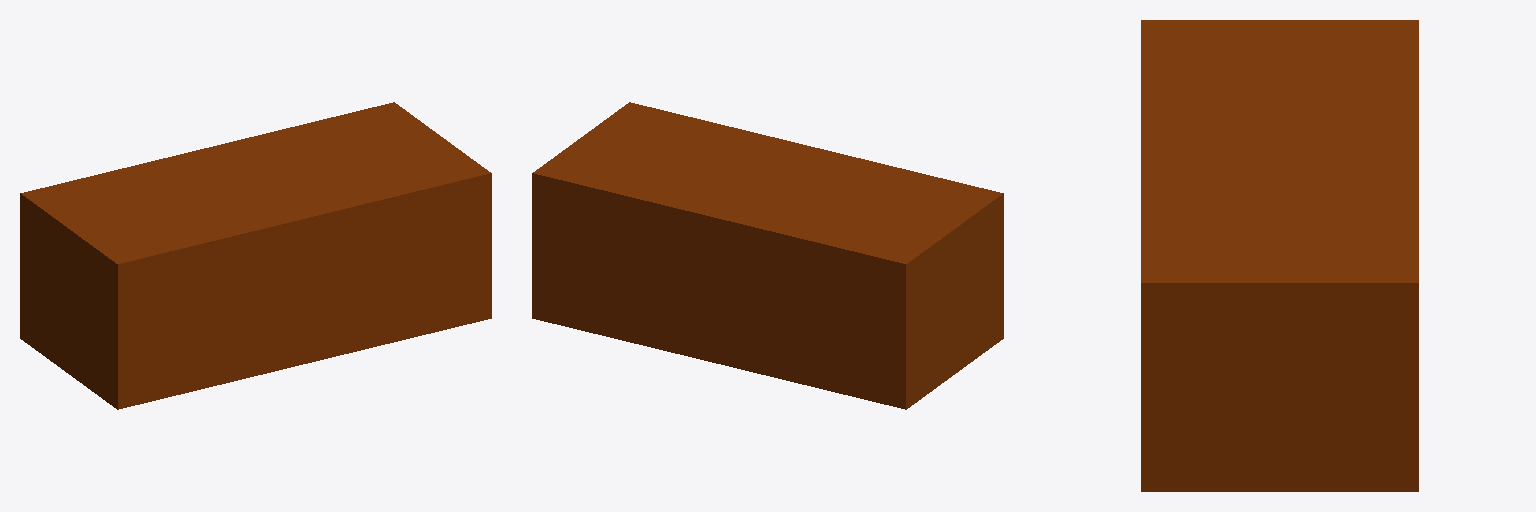
robot.urdf — handle_head:
<?xml version="1.0"?>
<robot name="handle_head">

  <link name="handle_head">
    <!-- Handle -->
    <visual>
      <origin xyz="0 0 0" rpy="0 0 0"/>
      <geometry>
        <box size="0.1417050389743989 0.06369508589295242 0.05266240091780315"/>
      </geometry>
      <material name="brown">
        <color rgba="0.55 0.27 0.07 1.0"/>
      </material>
    </visual>
    <collision>
      <origin xyz="0 0 0" rpy="0 0 0"/>
      <geometry>
        <box size="0.1417050389743989 0.06369508589295242 0.05266240091780315"/>
      </geometry>
    </collision>

    <inertial>
      <origin xyz="0 0 0" rpy="0 0 0"/>
      <mass value="0.20632575298514994"/>
      <inertia ixx="0.00011744048856815337" iyy="0.00039294131925516614" izz="0.0004150136270006371" ixy="0" ixz="0" iyz="0"/>
    </inertial>
  </link>

</robot>

--- What the picture shows (computed from the rendered views, not written in the file) ---
3 views of the same robot in one strip: view 1: azimuth 30°, elevation 25°; view 2: azimuth 150°, elevation 25°; view 3: azimuth 270°, elevation 25° (orthographic).
Robot: handle_head — 1 links, 0 joints (none); root link handle_head; default pose: every joint at zero.
Links seen in each view (by area): view 1: handle_head; view 2: handle_head; view 3: handle_head.
Link boxes in pixels (<box>): handle_head: <box>20,102,491,409</box>; handle_head: <box>532,102,1003,409</box>; handle_head: <box>1141,20,1418,491</box>.
Bounding box of the posed robot: 0.1417 × 0.0637 × 0.0527 m (x, y, z).
Geometry: primitives only (box / cylinder / sphere), no mesh files.
